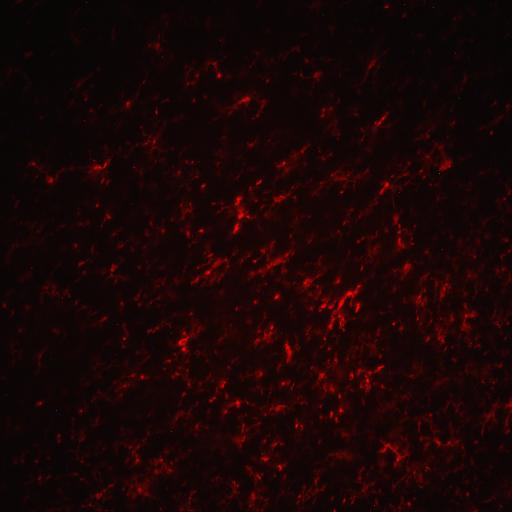microglia: (242, 39, 302, 83), (133, 262, 187, 309), (192, 246, 251, 287), (326, 280, 367, 336), (416, 414, 467, 459), (368, 161, 414, 208), (246, 241, 296, 283), (214, 91, 271, 125), (166, 152, 203, 203), (166, 316, 206, 363), (136, 119, 174, 167), (410, 264, 434, 340), (93, 370, 145, 404), (68, 114, 123, 146), (417, 131, 453, 179), (324, 154, 366, 195), (374, 386, 410, 432), (22, 159, 74, 190), (294, 463, 326, 512), (272, 141, 310, 179), (339, 466, 374, 507), (387, 213, 420, 256), (310, 355, 342, 398), (237, 357, 273, 395), (80, 148, 114, 188), (36, 274, 78, 306), (345, 328, 381, 364), (133, 215, 167, 253), (392, 459, 432, 491), (116, 431, 150, 468), (116, 78, 148, 117), (376, 435, 412, 469), (357, 114, 394, 147), (66, 68, 99, 105), (150, 446, 188, 478), (251, 311, 281, 351), (196, 372, 232, 404), (354, 229, 379, 274), (209, 188, 245, 218), (215, 472, 242, 512), (428, 312, 455, 352), (147, 45, 177, 80), (218, 393, 256, 420), (167, 394, 197, 428), (447, 82, 479, 113), (388, 256, 419, 288), (122, 472, 152, 505), (35, 208, 65, 241), (478, 396, 502, 437), (297, 266, 324, 302), (342, 204, 370, 236), (458, 302, 478, 344), (462, 263, 486, 298), (437, 390, 466, 418), (358, 55, 383, 87), (260, 398, 296, 420), (232, 422, 260, 450), (358, 364, 384, 394), (236, 133, 264, 160), (296, 58, 326, 83), (432, 272, 454, 306), (317, 93, 343, 121), (182, 57, 200, 95), (244, 486, 270, 512), (381, 494, 418, 512), (106, 255, 127, 286), (168, 366, 195, 390), (85, 482, 117, 502), (146, 314, 170, 340), (490, 303, 510, 334), (279, 338, 301, 366), (176, 486, 199, 512), (317, 404, 345, 424), (233, 205, 258, 226), (203, 56, 224, 80), (285, 413, 309, 434), (150, 96, 170, 118), (310, 176, 328, 200), (266, 434, 288, 453), (390, 317, 407, 341), (276, 373, 297, 392), (494, 266, 512, 288), (272, 458, 290, 478), (178, 200, 196, 220), (245, 464, 262, 484), (119, 319, 130, 348), (258, 446, 274, 465), (266, 289, 285, 305), (148, 37, 164, 54), (228, 220, 240, 238), (100, 212, 111, 228), (314, 9, 328, 21), (272, 195, 286, 203), (56, 404, 66, 414), (25, 130, 29, 136)
